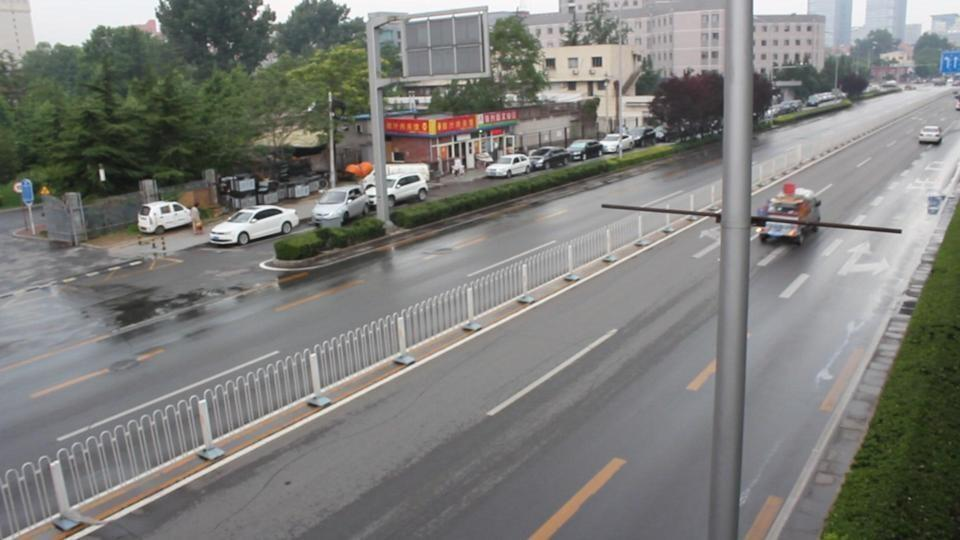car: (208, 205, 299, 247), (359, 168, 430, 207), (312, 187, 375, 228), (138, 201, 195, 236), (485, 154, 532, 179), (527, 146, 571, 172), (566, 139, 603, 163), (627, 126, 663, 148), (600, 132, 632, 154), (805, 90, 842, 108), (918, 125, 943, 145), (880, 80, 901, 92)
